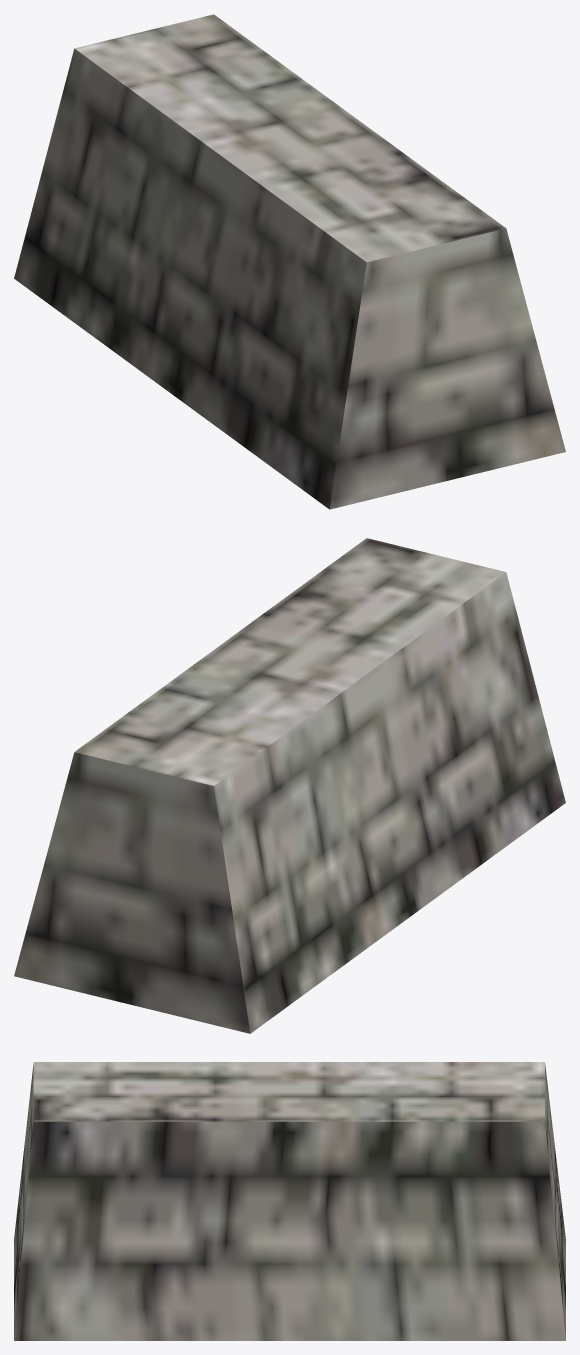
Rendered from building_construction_n_long_brick.glb.
3 views of the same model, one above another, from view 1: azimuth 30°, elevation 25°; view 2: azimuth 150°, elevation 25°; view 3: azimuth 270°, elevation 25° (orthographic). The views are drawn at different scales.
Visible parts, largest first — view 1: MeshRoot; view 2: MeshRoot; view 3: MeshRoot.
Part boxes in pixels (x1,y1,x2,y2): MeshRoot: (14, 14, 565, 509); MeshRoot: (14, 538, 565, 1033); MeshRoot: (14, 1062, 565, 1340).
Size of the model in its own units: 0.7109 by 0.653 by 1.64.
Materials: 1 (1 with a texture image).
